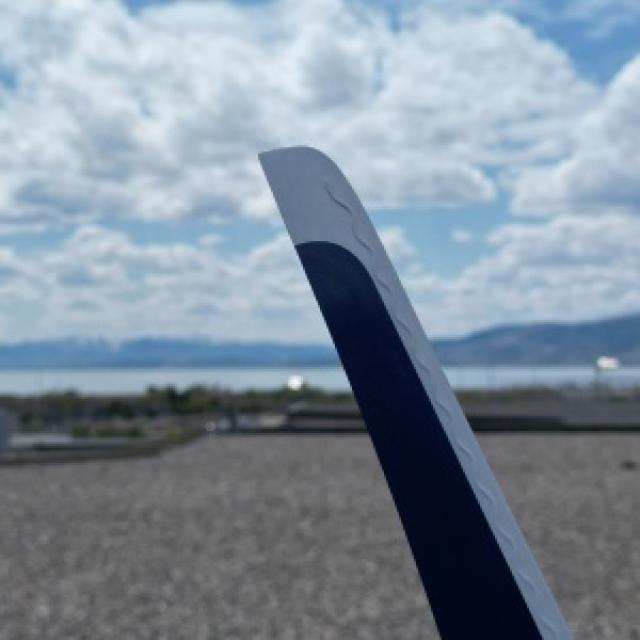healthy: (256, 147, 570, 638)
